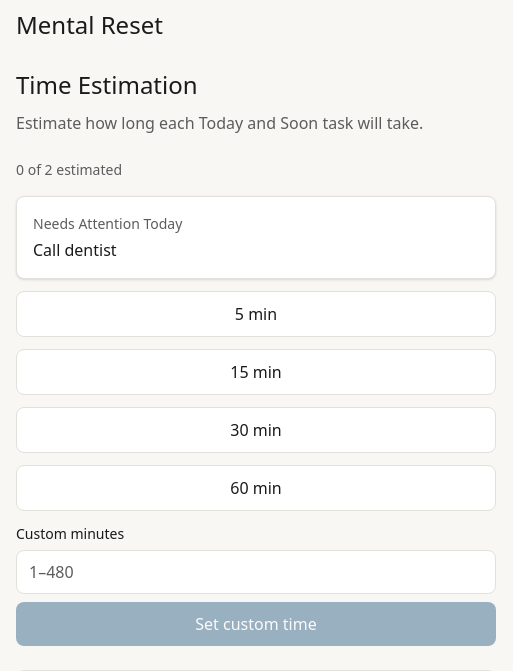
it: Time Estimation screen › saves preset estimates on tasks and updates estimatedTimeTotal
Click the button "15 min": [256, 372] box [16,349,496,395]
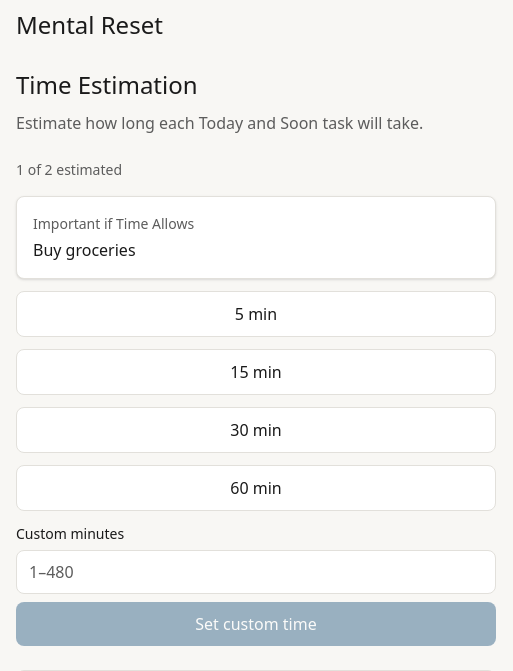
Expected: the text "Buy groceries" is shown, [33,239,136,261]
Expected: the text "1 of 2 estimated" is shown, [16,160,122,179]
